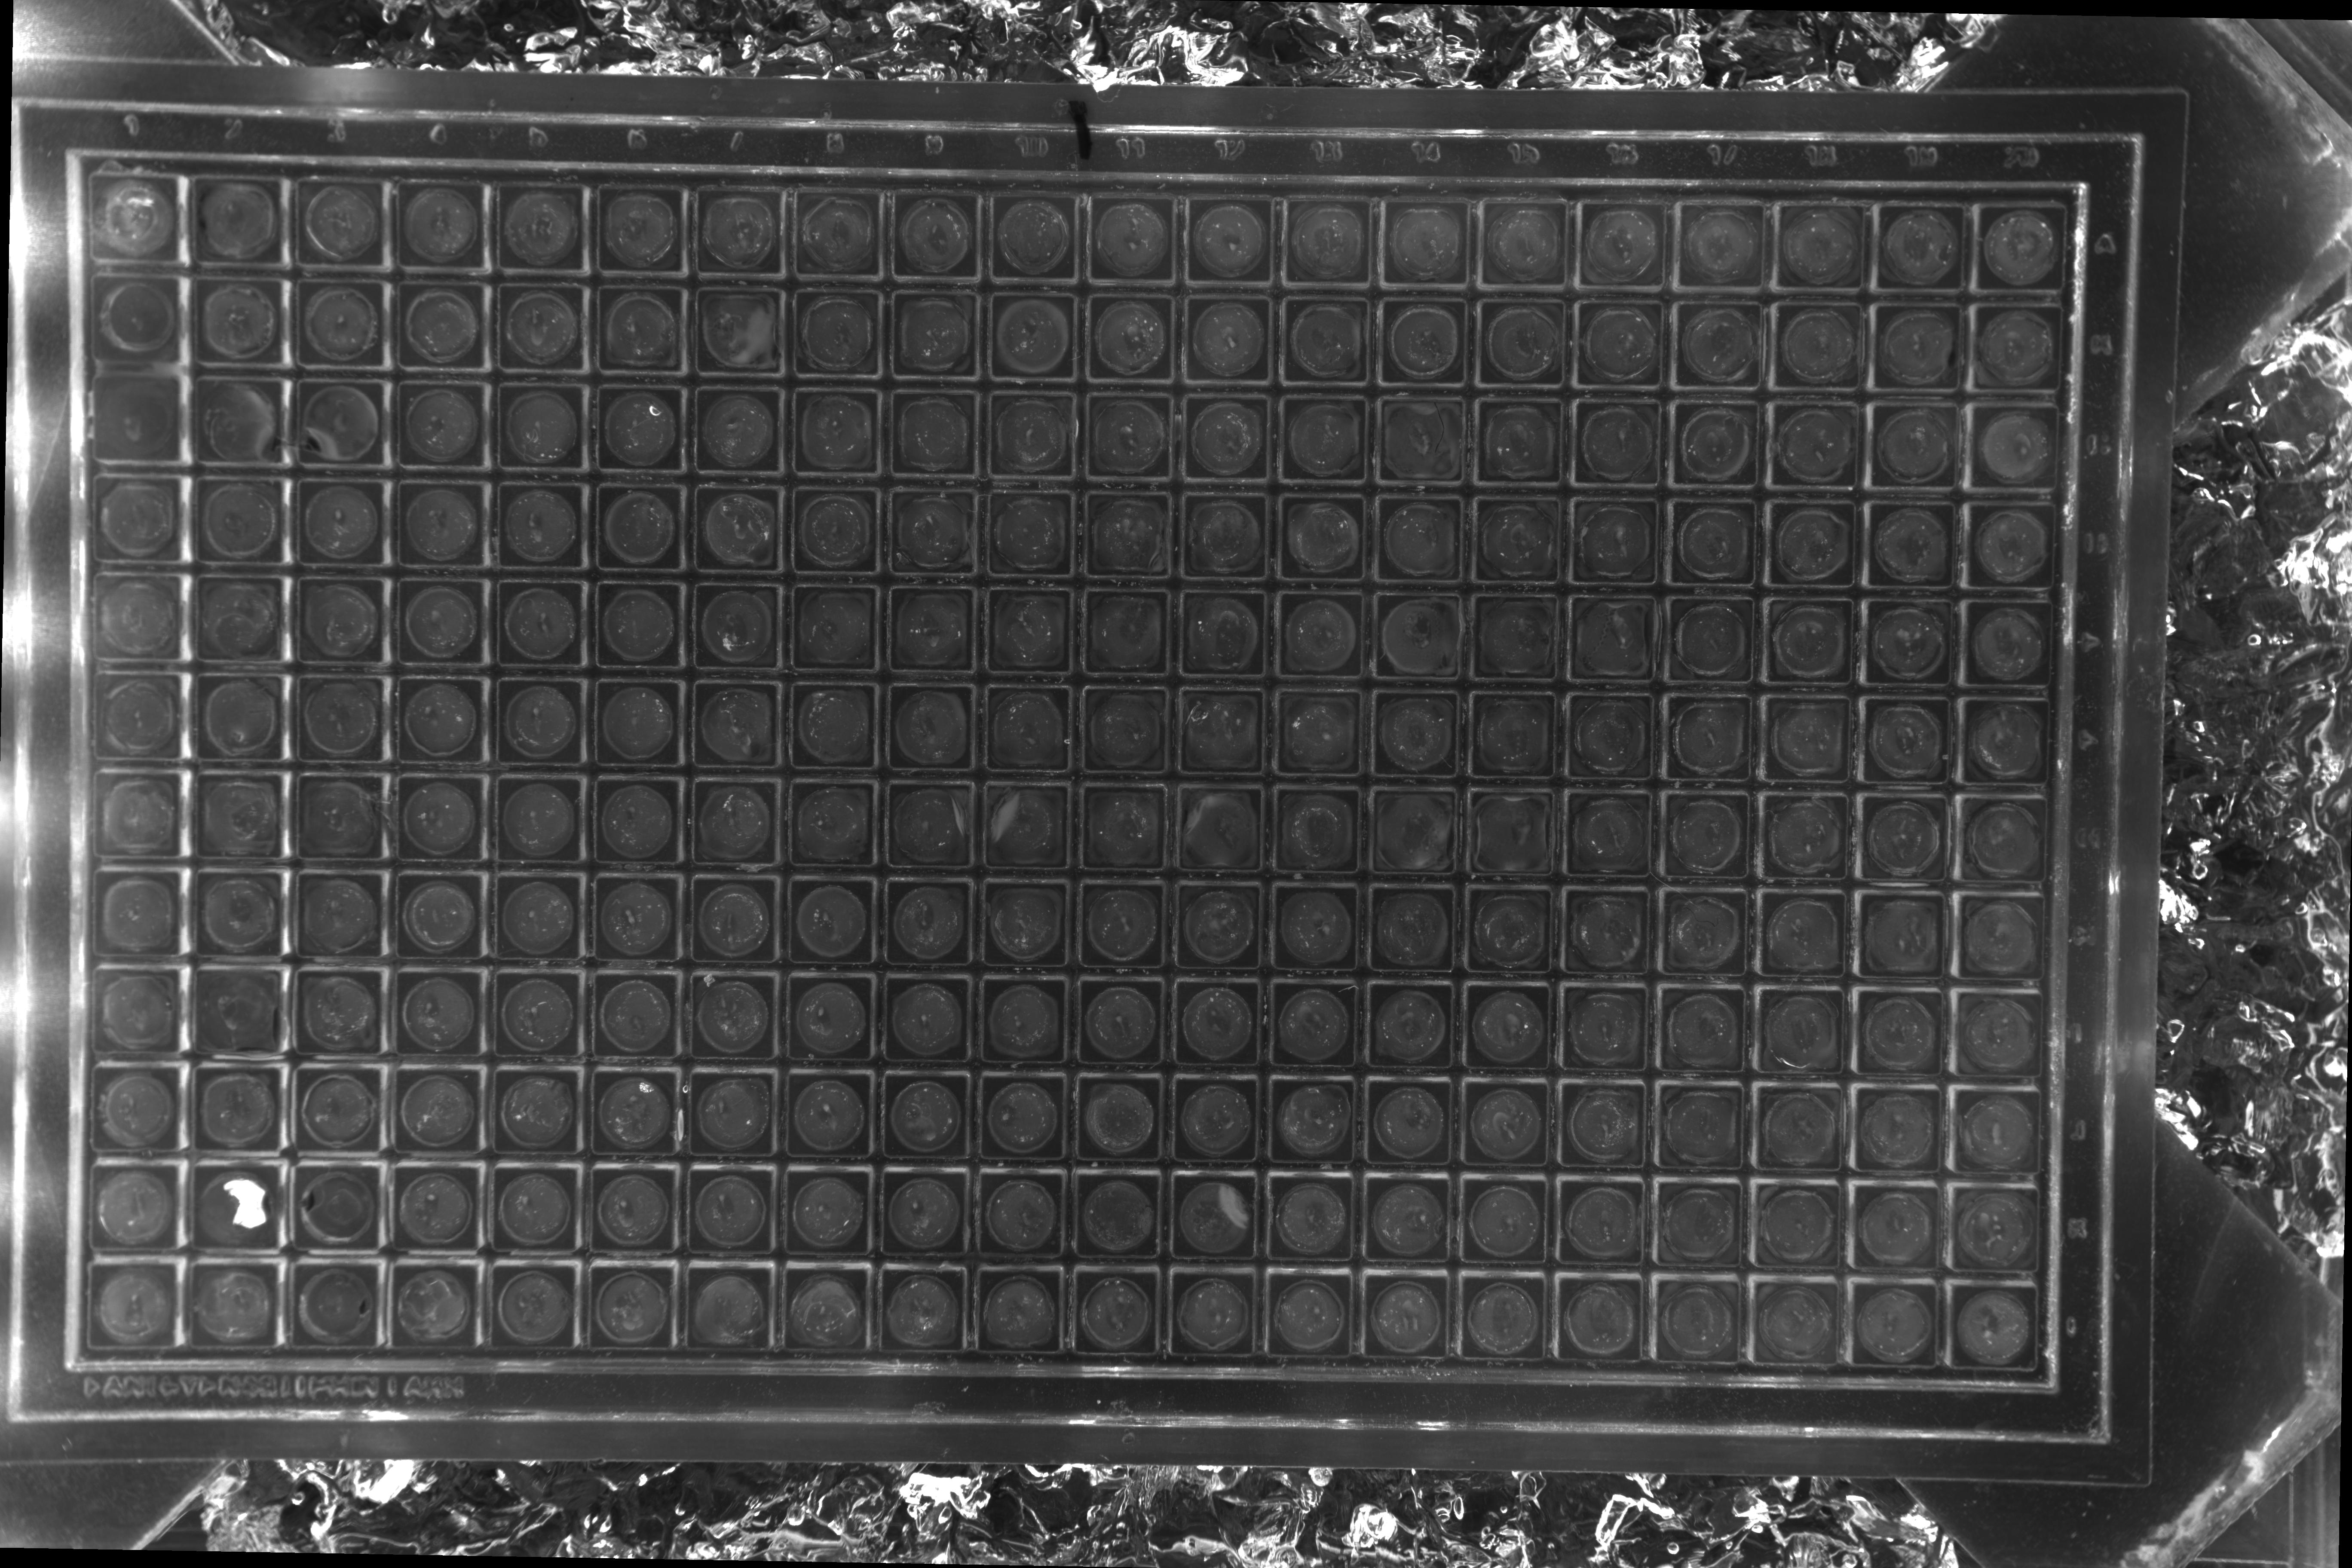WM_well: (497, 924, 586, 1011), (1176, 1209, 1263, 1298), (303, 829, 390, 917), (499, 1020, 586, 1108), (693, 1213, 780, 1300), (784, 240, 871, 327), (882, 142, 969, 229), (885, 534, 973, 621), (887, 728, 975, 815), (983, 920, 1071, 1008), (983, 1211, 1071, 1298), (1080, 920, 1167, 1008), (1176, 338, 1263, 425), (1176, 822, 1263, 910), (1368, 1113, 1456, 1200), (1370, 726, 1458, 814), (1466, 920, 1554, 1008), (1563, 1113, 1650, 1200), (1661, 1115, 1748, 1202), (1662, 822, 1750, 910), (1662, 726, 1750, 814), (1762, 528, 1850, 616), (1764, 331, 1851, 418), (1958, 822, 2046, 910)
